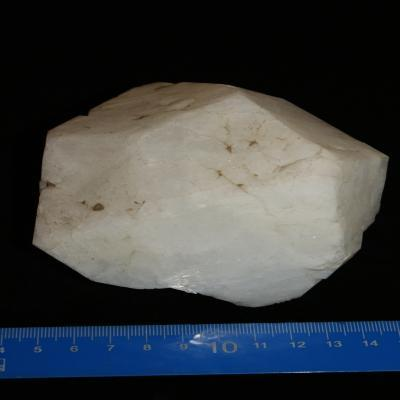mineralogy: (32, 82, 389, 309)
